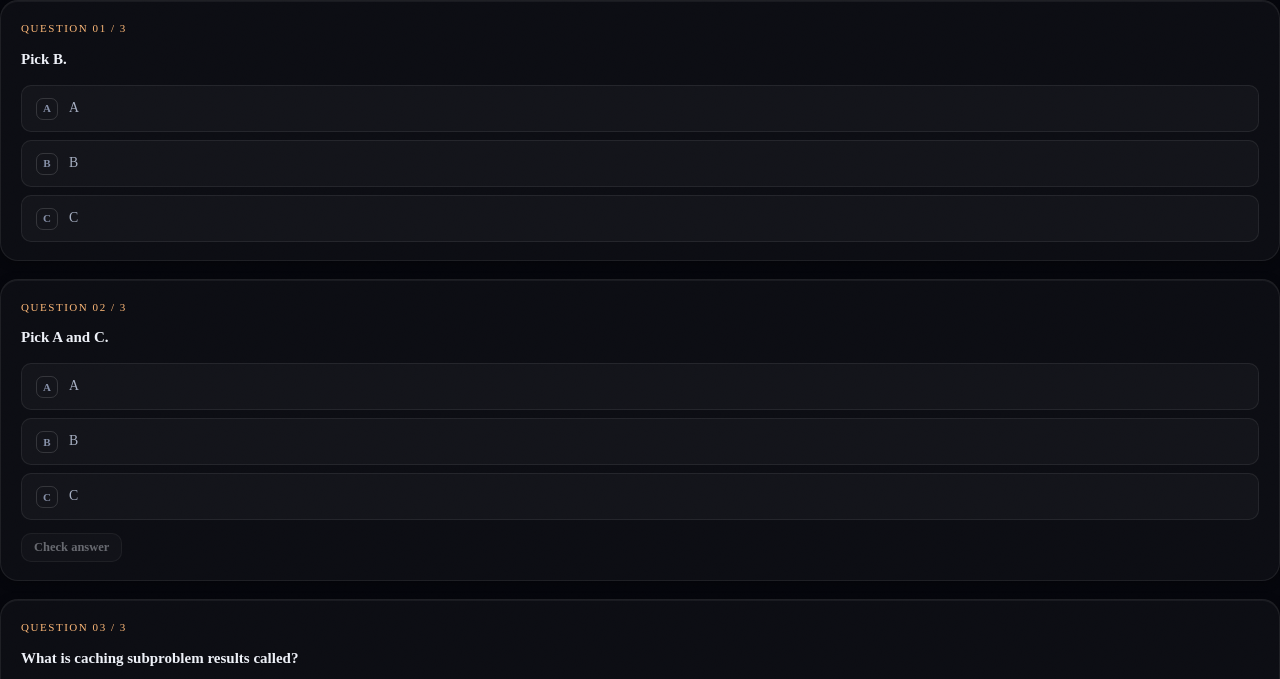
Test: quiz interaction › exposes multi-select picks as pressed buttons and keeps the check button
This screenshot has width=1280, height=679.
Click the button "A A" below "Pick A and C.": (47, 387) top-left (21, 363), bottom-right (1259, 410)
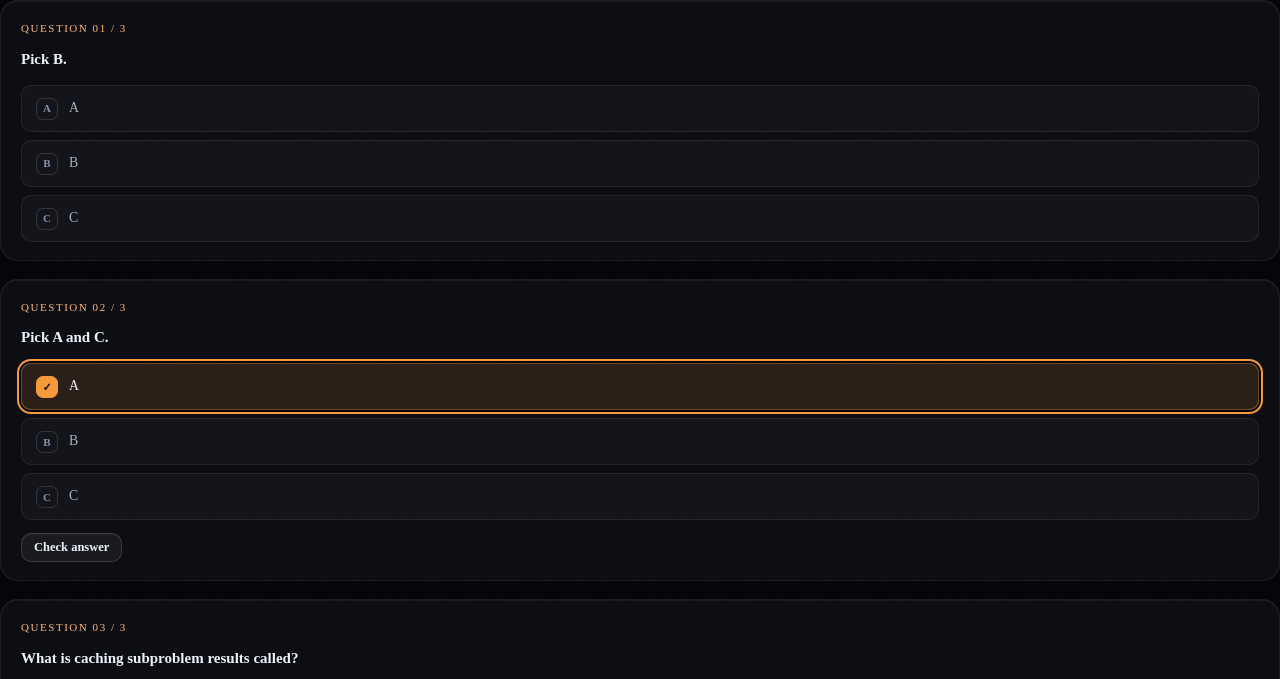
Click the button "C C" below "Pick A and C.": (47, 497) top-left (21, 473), bottom-right (1259, 520)
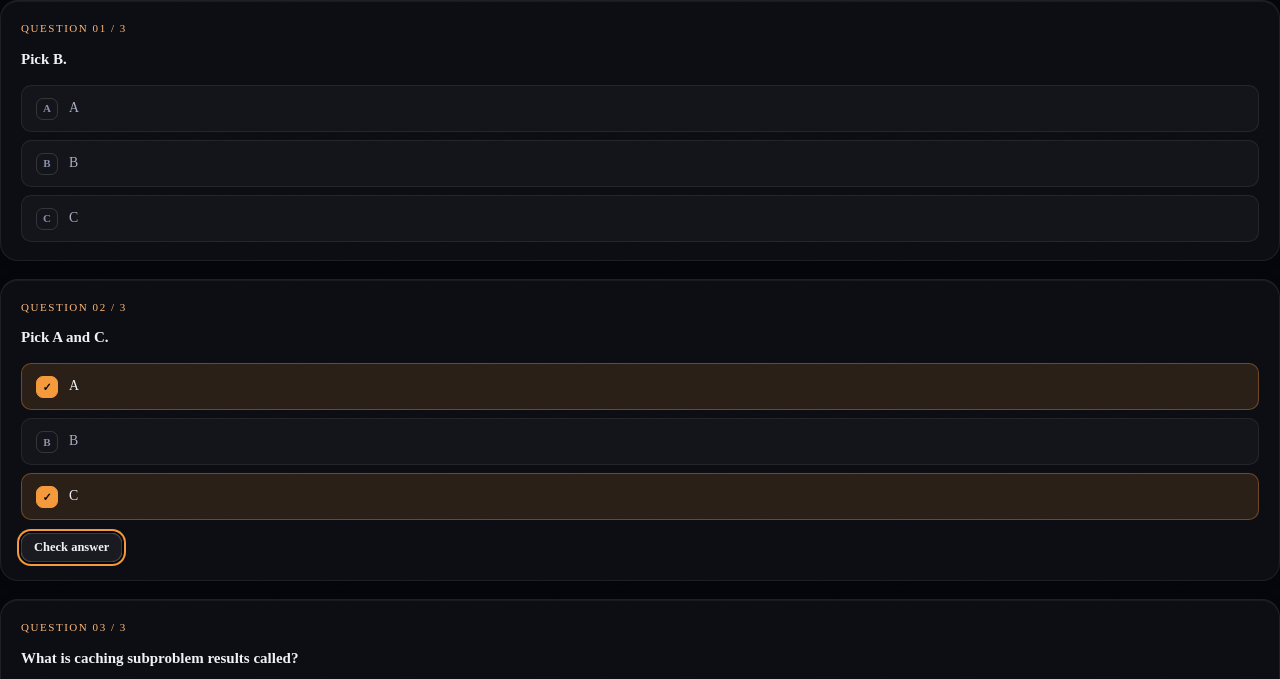
Expected: the button "✓ A" is pressed, top-left (21, 363), bottom-right (1259, 410)
Press Enter
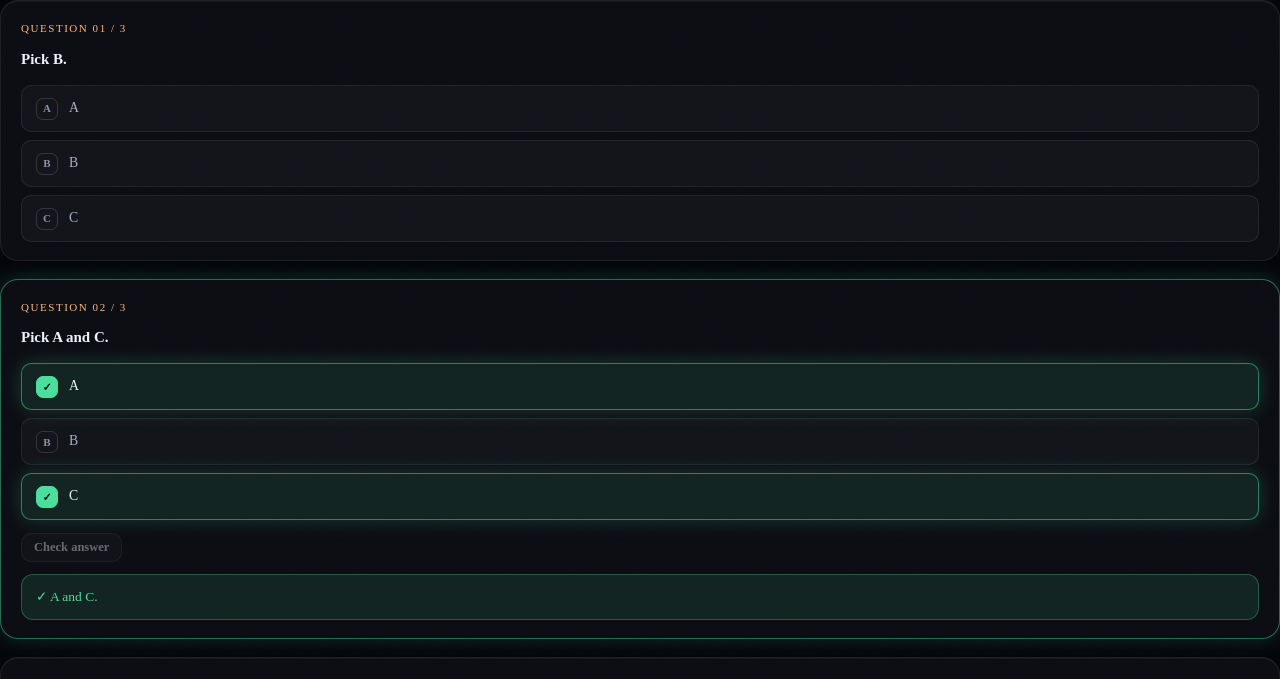
Expected: the text "✓ A and C." is shown, top-left (21, 574), bottom-right (1259, 620)
